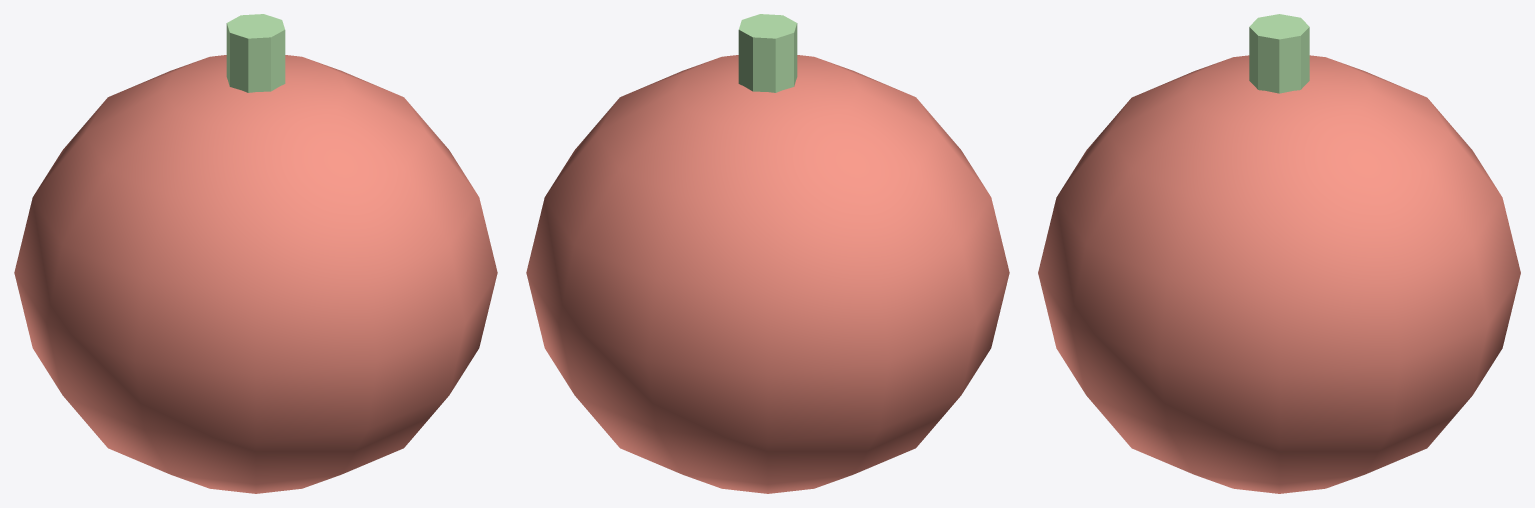
Rendered from SM_Tomato.glb.
3 views of the same model, side by side, from view 1: azimuth 30°, elevation 25°; view 2: azimuth 150°, elevation 25°; view 3: azimuth 270°, elevation 25° (orthographic).
Parts seen in each view (by area): view 1: SM_Tomato; view 2: SM_Tomato; view 3: SM_Tomato.
Boxes of the visible parts, x1,y1,x2,y2 form: SM_Tomato: (14, 14, 497, 493); SM_Tomato: (526, 14, 1009, 493); SM_Tomato: (1038, 14, 1520, 493).
Size of the model in its own units: 0.32 by 0.324 by 0.32.
